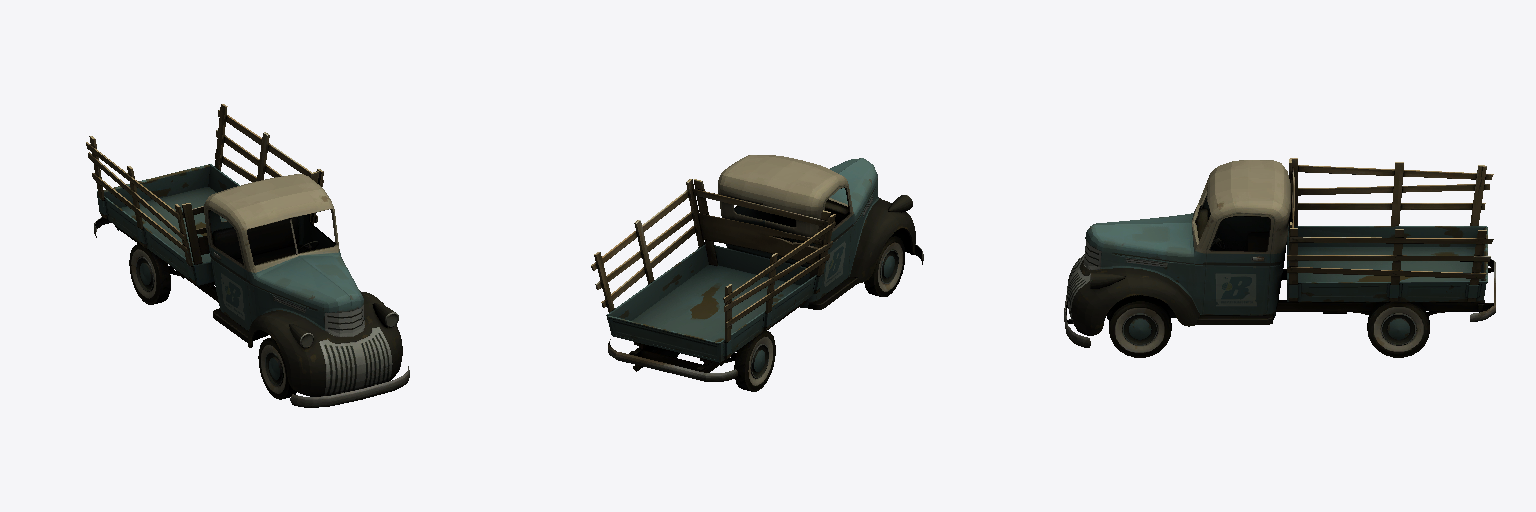
The picture shows the model from 3 angles: view 1: azimuth 30°, elevation 25°; view 2: azimuth 150°, elevation 25°; view 3: azimuth 270°, elevation 25°; orthographic projection.
Visible parts, largest first — view 1: pickup; view 2: pickup; view 3: pickup.
Boxes of the visible parts, box(x1,y1,x2,y2) form: pickup: box(86, 104, 409, 407); pickup: box(591, 155, 923, 391); pickup: box(1064, 158, 1495, 357).
Size of the model in its own units: 4.61 by 4.68 by 11.83.
1 materials, 1 textured.